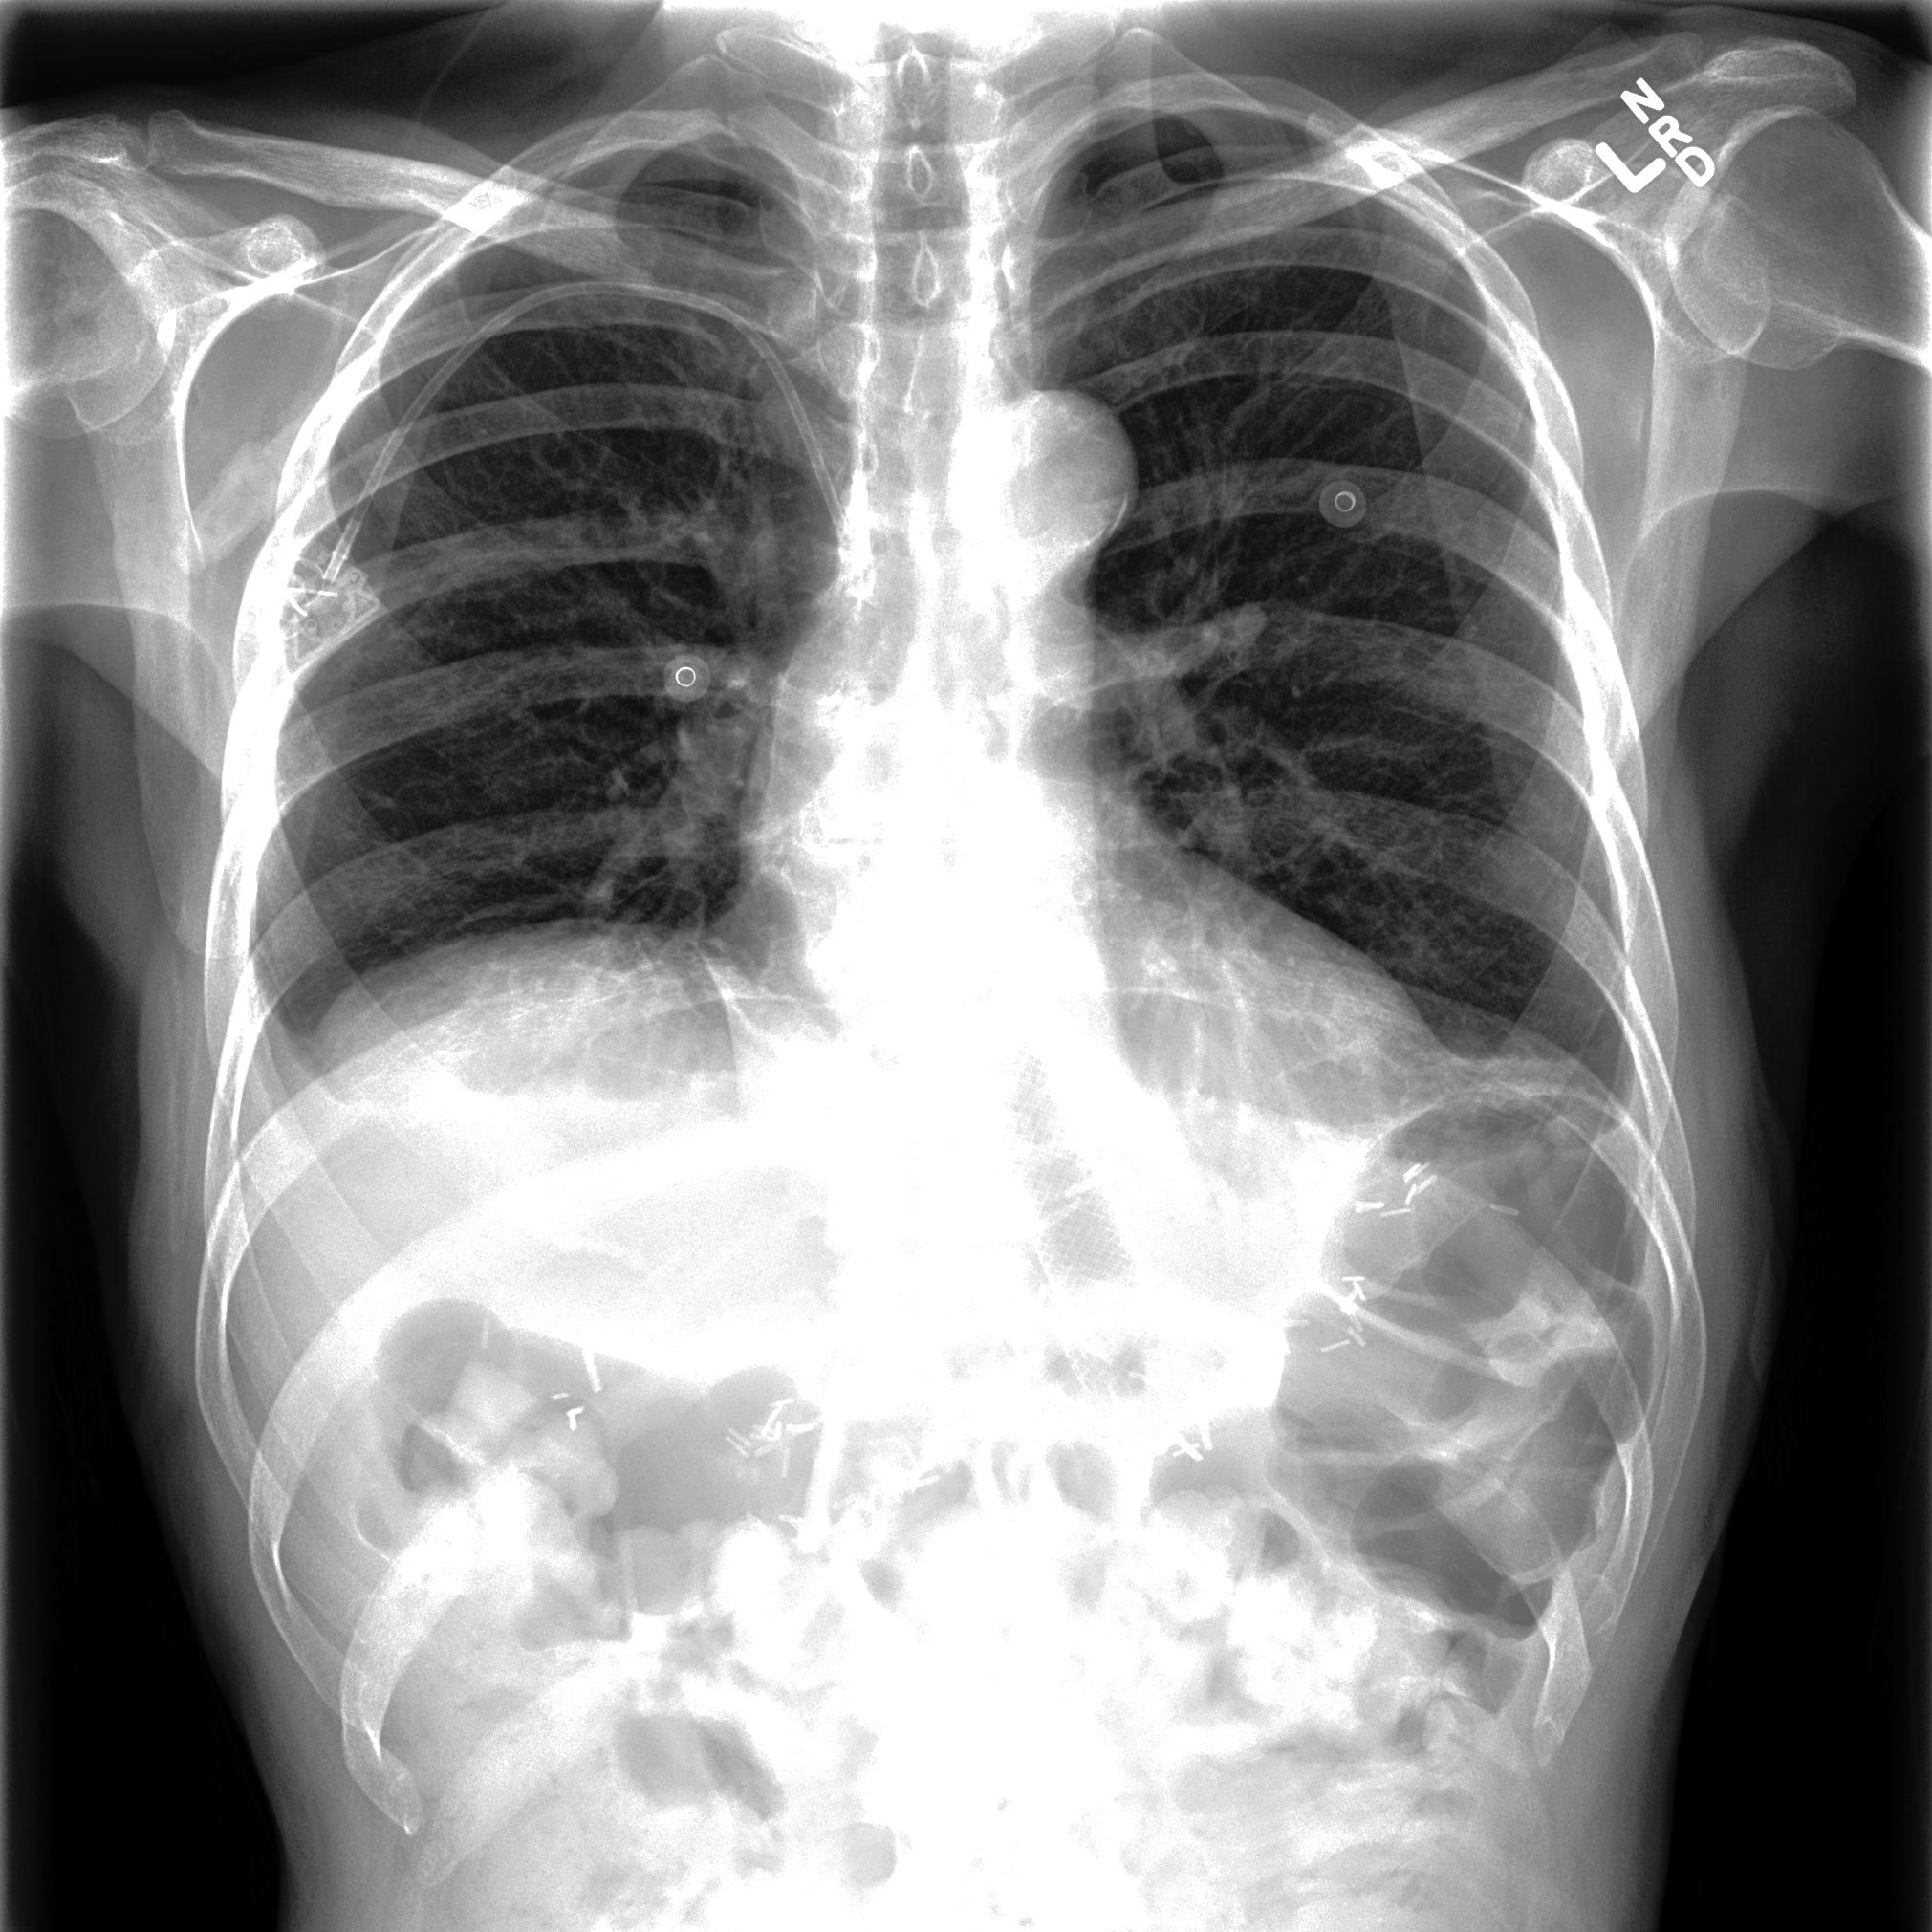Pleural Effusion: (203, 1003, 395, 1350)
